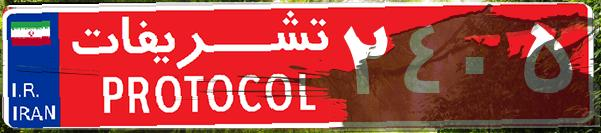0: (460, 20, 520, 115)
2: (340, 20, 400, 115)
4: (400, 20, 460, 115)
5: (520, 20, 580, 115)
تشریفات: (60, 8, 340, 125)
